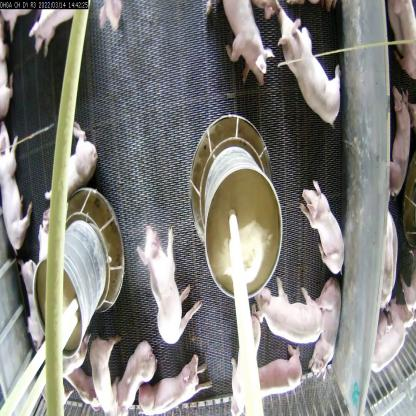Pig: (271, 5, 344, 140), (127, 198, 192, 339), (296, 171, 361, 293), (213, 0, 276, 95), (38, 128, 99, 218), (244, 275, 315, 352), (109, 313, 157, 416), (144, 340, 208, 415), (233, 354, 306, 410), (0, 128, 26, 267), (315, 286, 346, 384), (89, 336, 123, 416)
